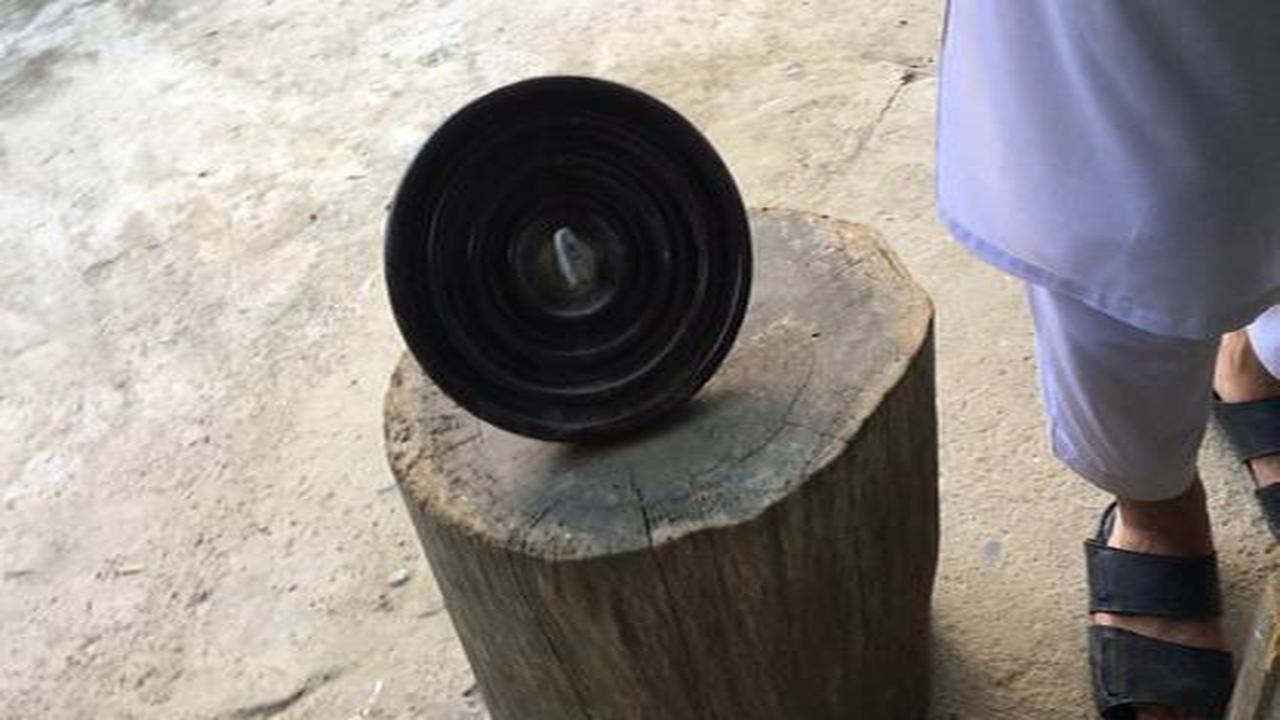insulator_disc: (383, 73, 759, 452)
